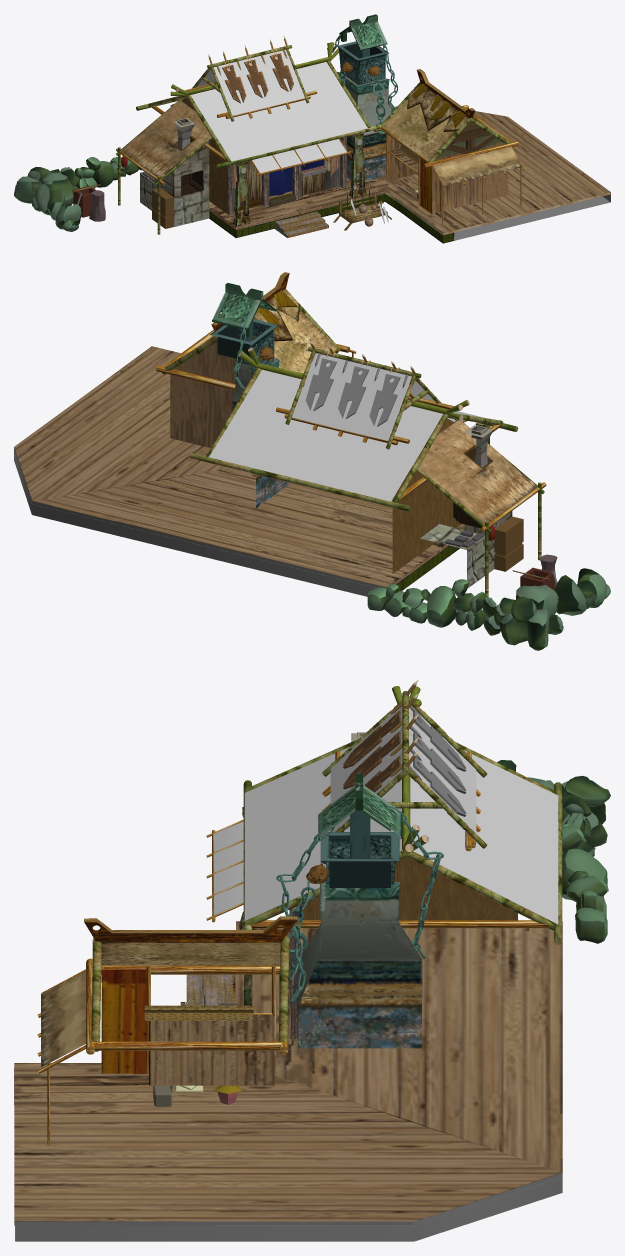
File: 3Dchangjing.obj
3 views of the same model, one above another, from view 1: azimuth 30°, elevation 25°; view 2: azimuth 150°, elevation 25°; view 3: azimuth 270°, elevation 25° (orthographic). The views are drawn at different scales.
Parts seen in each view (by area): view 1: pCube2, polySurface1, polySurface8, polySurface47 polySurface46, polySurface24 polySurface23, pPlane8, pCube5, pCube12, polySurface4, polySurface23 polySurface25, pPlane11, pPlane3 (+24 smaller); view 2: pCube2, polySurface1, pPlane8, polySurface24 polySurface23, pCube5, polySurface4, polySurface8, polySurface47 polySurface46, pCube12, polySurface23 polySurface25, polySurface46 polySurface48, pCube13 (+17 smaller); view 3: pCube2, polySurface1, polySurface47 polySurface46, polySurface24 polySurface23, pCube5, polySurface8, polySurface23 polySurface25, polySurface4, pPlane11, polySurface23 polySurface26, pPlane3, polySurface46 polySurface48 (+17 smaller).
Boxes of the visible parts, x1,y1,x2,y2 form: pCube2: (209,106,610,234); polySurface1: (190,62,367,161); polySurface8: (170,98,346,215); polySurface47 polySurface46: (337,41,393,182); polySurface24 polySurface23: (388,135,507,213); pPlane8: (120,100,210,178); pCube5: (209,191,610,243); pCube12: (140,141,209,226); polySurface4: (197,49,304,115); polySurface23 polySurface25: (382,99,455,160); pPlane11: (434,146,522,185); pPlane3: (252,139,346,173); pCube2: (14,346,464,588); polySurface1: (208,369,484,501); pPlane8: (414,420,537,523); polySurface24 polySurface23: (170,342,237,447); pCube5: (14,450,459,596); polySurface4: (292,353,434,440); polySurface8: (392,418,461,573); polySurface47 polySurface46: (210,319,290,508); pCube12: (420,447,512,588); polySurface23 polySurface25: (274,310,335,372); polySurface46 polySurface48: (212,283,275,337); pCube13: (494,516,523,571); pCube2: (14,921,562,1225); polySurface1: (244,746,558,924); polySurface47 polySurface46: (298,810,422,1053); polySurface24 polySurface23: (101,970,274,1085); pCube5: (14,1067,562,1241); polySurface8: (288,857,517,1038); polySurface23 polySurface25: (101,942,280,965); polySurface4: (330,706,476,833); pPlane11: (41,971,85,1067); polySurface23 polySurface26: (84,916,297,942); pPlane3: (214,821,243,915); polySurface46 polySurface48: (318,774,402,840).
Bounding box in the file's own units: 65.02 × 22.16 × 38.59.
